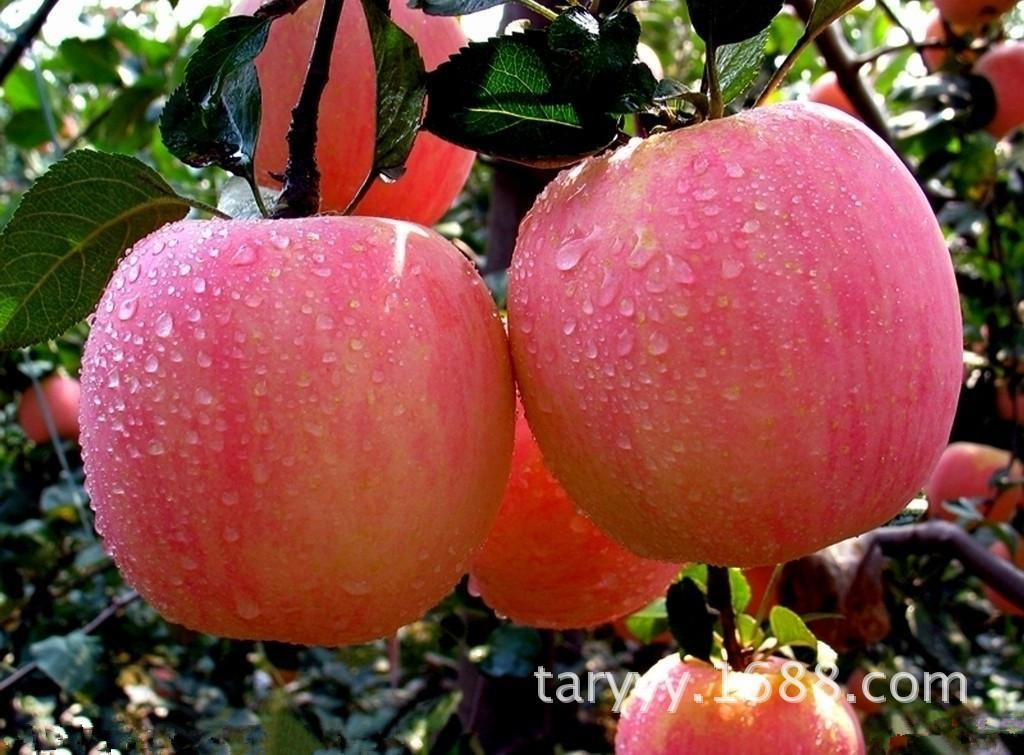apple: (496, 99, 954, 587), (85, 212, 519, 643), (236, 6, 477, 212)
